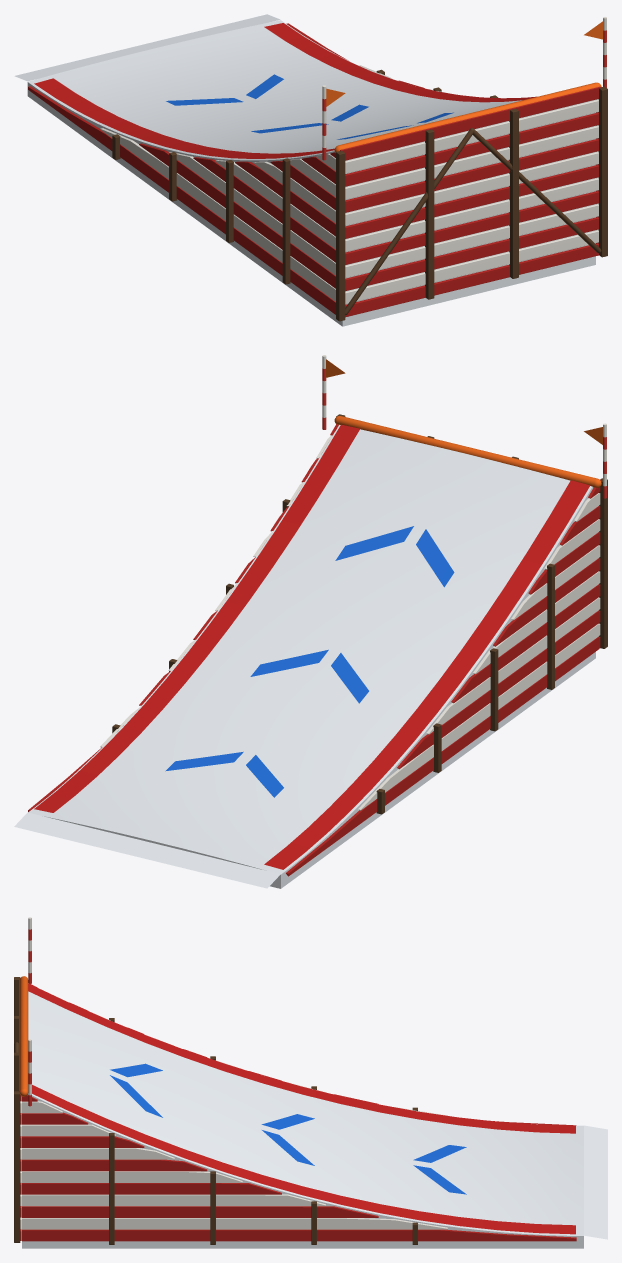
Rendered from kar-rampa-uzun.glb.
3 views of the same model, one above another, from view 1: azimuth 30°, elevation 25°; view 2: azimuth 150°, elevation 25°; view 3: azimuth 270°, elevation 25° (orthographic). The views are drawn at different scales.
Parts seen in each view (by area): view 1: kar-rampa.001, kirmizi-tahta, beyaz-tahta, tahta-dikme, kirmizi-boya, turuncu-rampa, mavi-boya; view 2: kar-rampa.001, kirmizi-boya, kirmizi-tahta, beyaz-tahta, mavi-boya, tahta-dikme, turuncu-rampa; view 3: kar-rampa.001, kirmizi-tahta, beyaz-tahta, kirmizi-boya, tahta-dikme, mavi-boya, turuncu-rampa.
Boxes of the visible parts, bbox=[...] form: kar-rampa.001: bbox=[14, 14, 595, 326]; kirmizi-tahta: bbox=[28, 23, 600, 317]; beyaz-tahta: bbox=[100, 65, 598, 304]; tahta-dikme: bbox=[112, 69, 607, 321]; kirmizi-boya: bbox=[34, 23, 536, 158]; turuncu-rampa: bbox=[326, 21, 603, 152]; mavi-boya: bbox=[166, 74, 453, 139]; kar-rampa.001: bbox=[14, 425, 595, 888]; kirmizi-boya: bbox=[34, 424, 590, 869]; kirmizi-tahta: bbox=[28, 424, 600, 876]; beyaz-tahta: bbox=[100, 434, 600, 810]; mavi-boya: bbox=[165, 526, 454, 797]; tahta-dikme: bbox=[112, 414, 607, 814]; turuncu-rampa: bbox=[326, 359, 602, 488]; kar-rampa.001: bbox=[22, 991, 607, 1248]; kirmizi-tahta: bbox=[19, 978, 576, 1241]; beyaz-tahta: bbox=[20, 989, 447, 1229]; kirmizi-boya: bbox=[28, 983, 575, 1234]; tahta-dikme: bbox=[14, 977, 417, 1244]; mavi-boya: bbox=[110, 1063, 466, 1194]; turuncu-rampa: bbox=[20, 976, 28, 1096].
Size of the model in its own units: 7.29 by 5.9 by 14.8.
